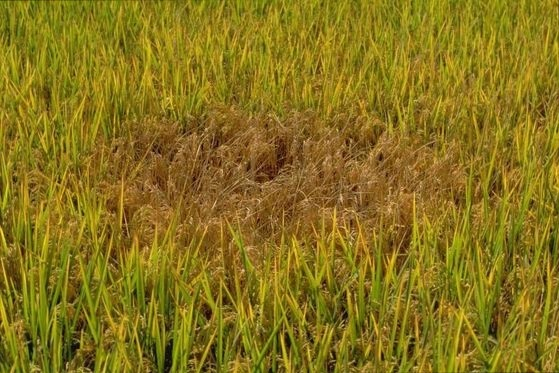Hopper_burn: (99, 107, 460, 245)
